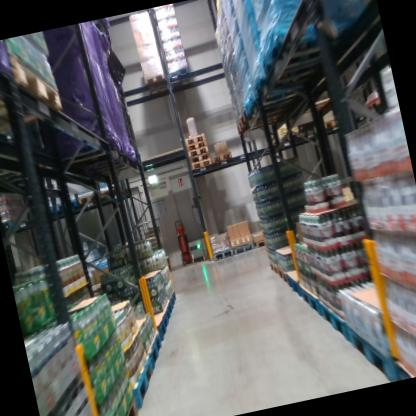pallet: (247, 14, 352, 81), (0, 56, 67, 133), (250, 54, 343, 101), (342, 316, 397, 386), (242, 82, 314, 118), (119, 352, 161, 411), (235, 94, 303, 129), (318, 296, 350, 347), (235, 108, 296, 131), (297, 277, 324, 320), (142, 330, 167, 374), (254, 236, 281, 276), (142, 72, 171, 100), (97, 182, 130, 205), (168, 67, 195, 94), (318, 111, 348, 134), (0, 213, 30, 236), (54, 194, 82, 217), (0, 38, 17, 75), (152, 312, 172, 343), (106, 399, 140, 416), (284, 269, 302, 299), (231, 239, 257, 258), (182, 130, 208, 147), (211, 150, 235, 168), (77, 190, 101, 208), (159, 299, 176, 324), (189, 158, 213, 174), (161, 290, 179, 311), (213, 246, 236, 262), (274, 264, 290, 287), (188, 153, 212, 167), (187, 141, 209, 153), (189, 148, 210, 158)
